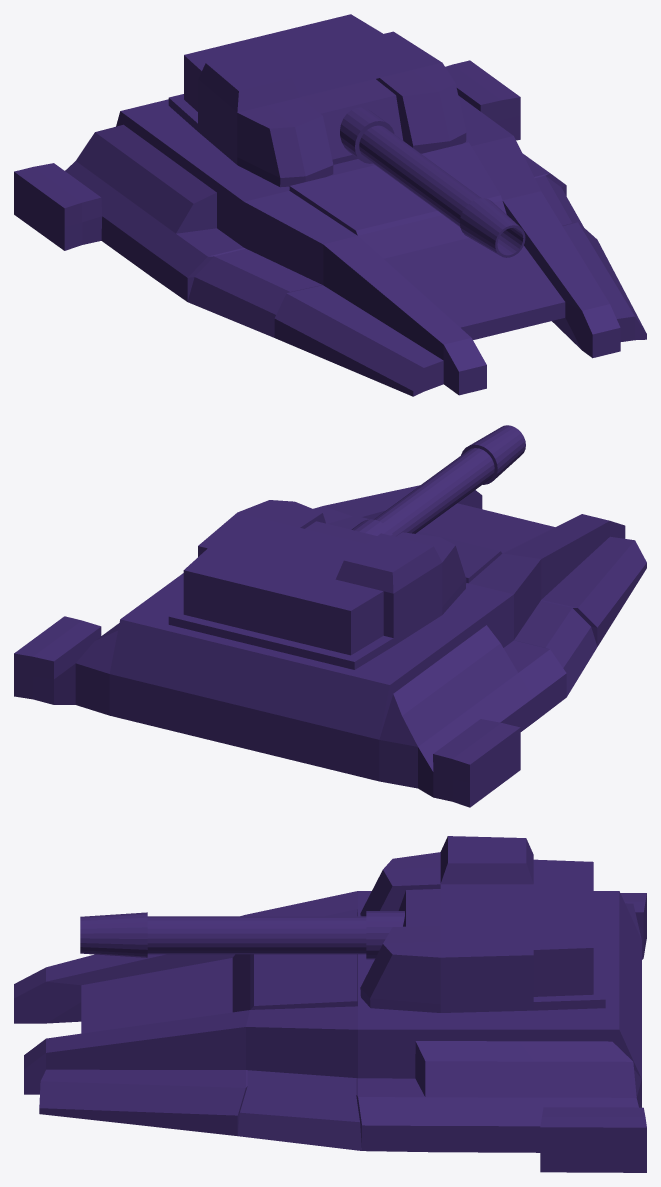
The model's file is hovertank3.fbx.
3 renders of one model, top to bottom at view 1: azimuth 30°, elevation 25°; view 2: azimuth 150°, elevation 25°; view 3: azimuth 270°, elevation 25°, orthographic. The views are drawn at different scales.
Visible parts, largest first — view 1: TankCorpse, Tower, Cylinder; view 2: TankCorpse, Tower, Cylinder; view 3: TankCorpse, Tower, Cylinder.
Boxes of the visible parts, x1,y1,x2,y2 form: TankCorpse: (14,60,646,396); Tower: (168,14,466,187); Cylinder: (340,107,525,257); TankCorpse: (14,485,646,807); Tower: (168,500,466,669); Cylinder: (351,425,525,536); TankCorpse: (14,891,646,1172); Tower: (360,836,605,1012); Cylinder: (80,911,404,959).
Size of the model in its own units: 919 by 310 by 1048.
